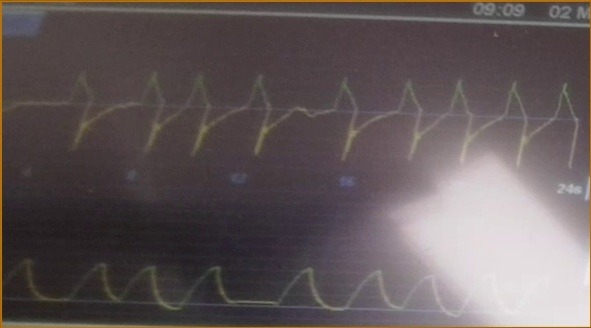Ineffective_effort Flow: (1, 65, 583, 169)
Ineffective_effort Volume: (4, 241, 525, 321)
